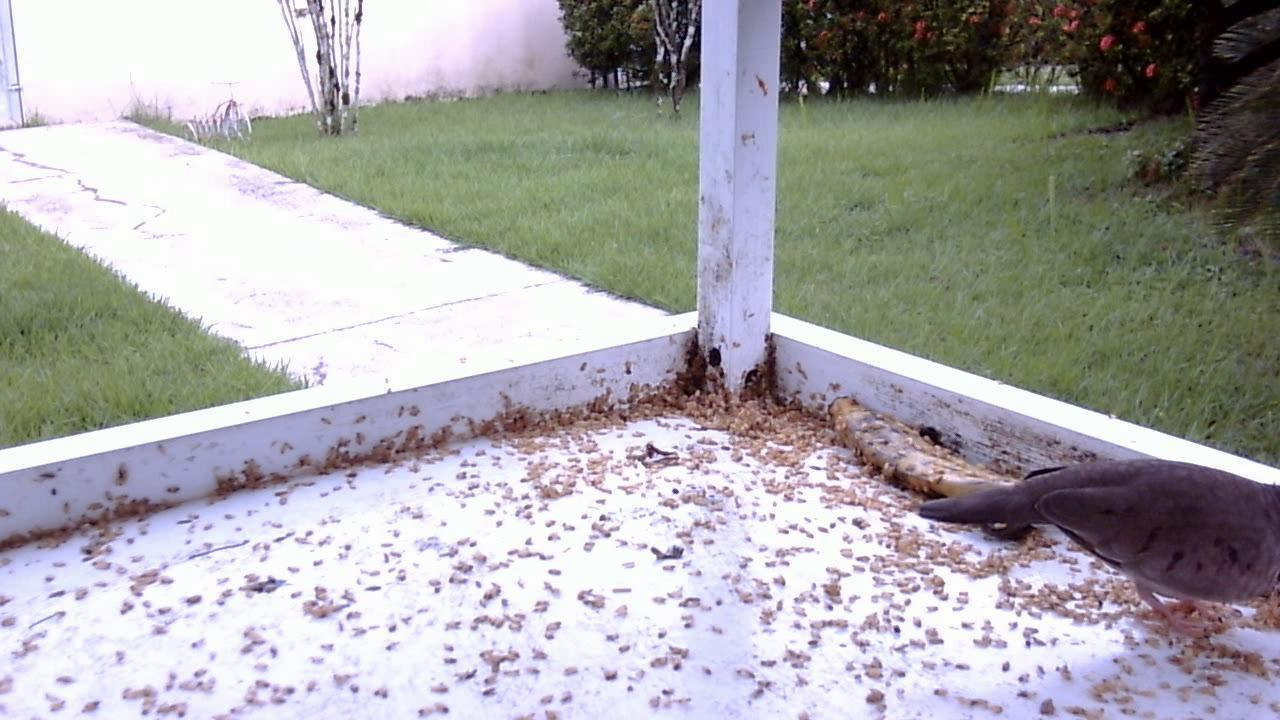rolinha: (893, 426, 1276, 638)
